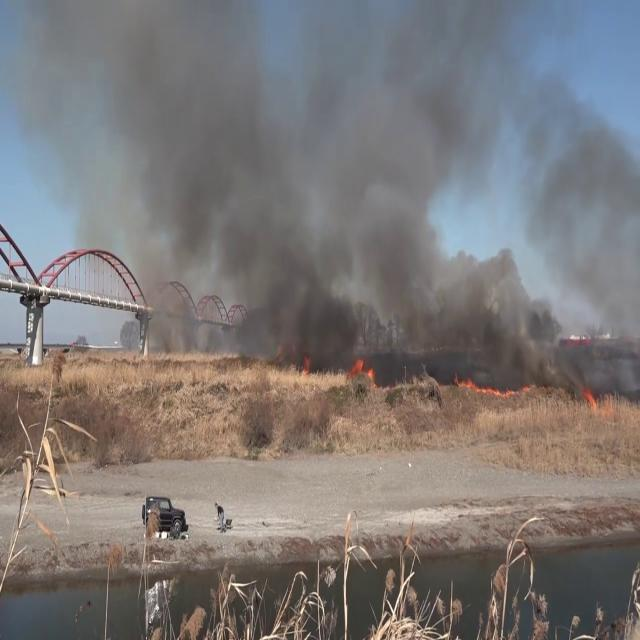Smoke: (7, 0, 610, 386)
